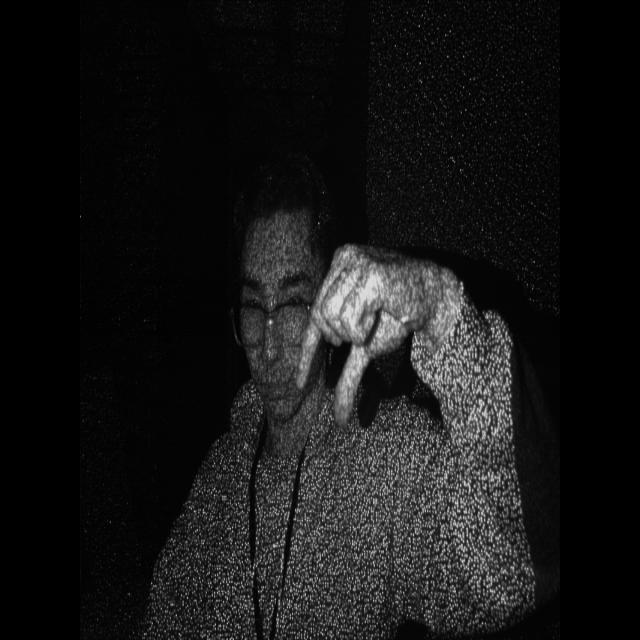Q: (284, 221, 394, 412)
